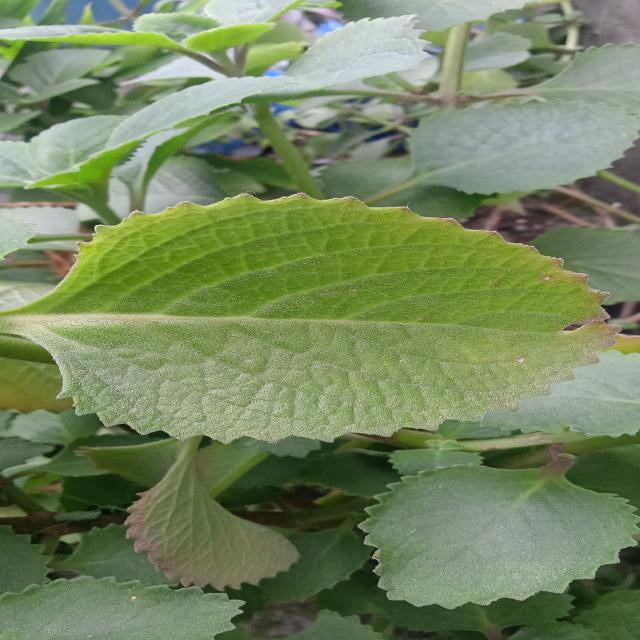Oregano: (21, 183, 640, 452), (315, 455, 640, 632)
